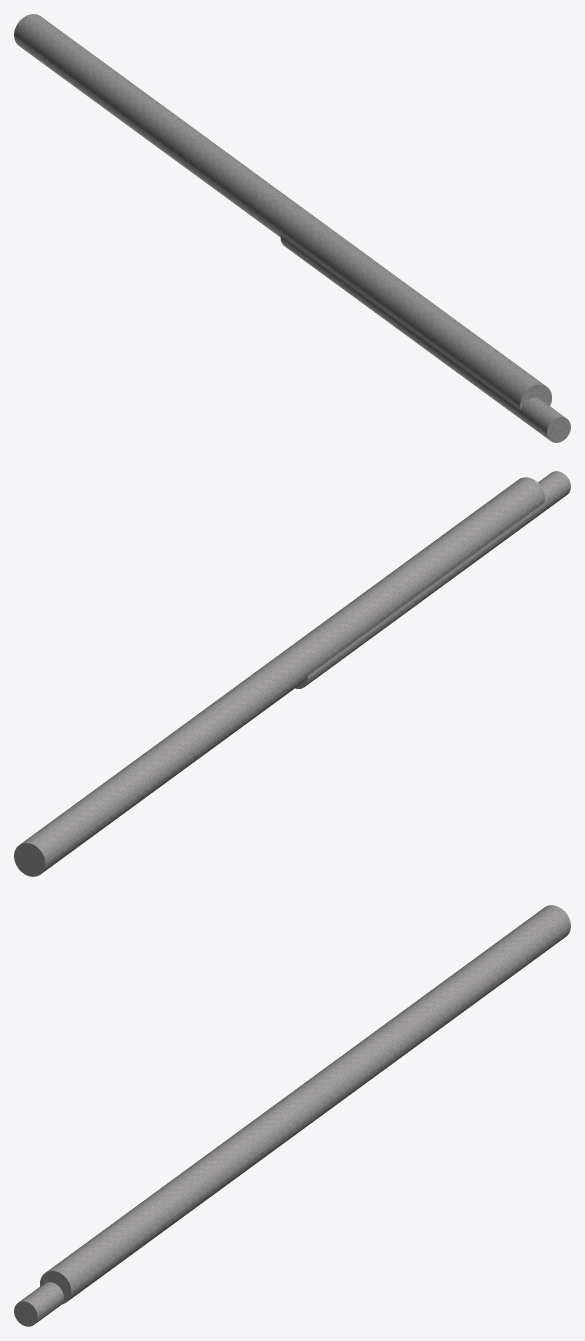
The picture shows the model from 3 angles, top to bottom: view 1: azimuth 30°, elevation 25°; view 2: azimuth 150°, elevation 25°; view 3: azimuth 330°, elevation 25°; orthographic projection.
Visible parts, largest first — view 1: 0_3_1_2_1_3_1_0_2_0; view 2: 0_3_1_2_1_3_1_0_2_0; view 3: 0_3_1_2_1_3_1_0_2_0.
Boxes of the visible parts, x1=… form: 0_3_1_2_1_3_1_0_2_0: x1=14, y1=14, x2=570, y2=442; 0_3_1_2_1_3_1_0_2_0: x1=14, y1=471, x2=570, y2=876; 0_3_1_2_1_3_1_0_2_0: x1=14, y1=905, x2=570, y2=1326.
Bounding box in the file's own units: 0.8 × 0.8912 × 23.05.
2 materials, 2 textured.
